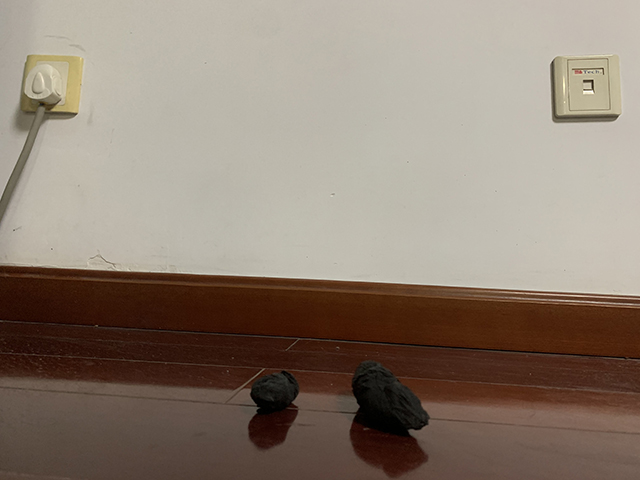feces: (351, 359, 431, 433), (248, 369, 301, 410)
